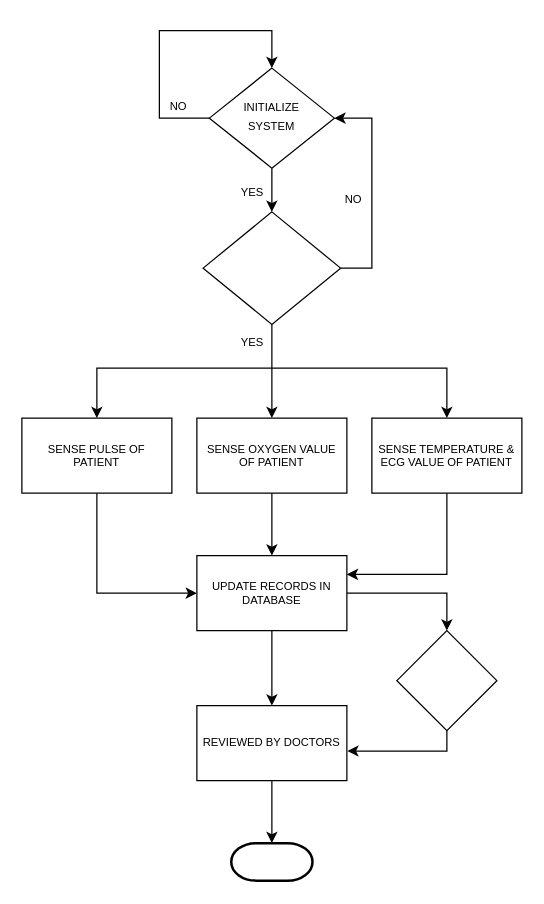
Image size: 544x904. Some labels were removed from this diagram. Each missing label, with the centre of its shape:
"CHECK INTERNET CONNECTION?" belongs at point (271, 267).
"END" belongs at point (271, 861).
"IF ANY VALUE EXCEEDS?" belongs at point (446, 680).
